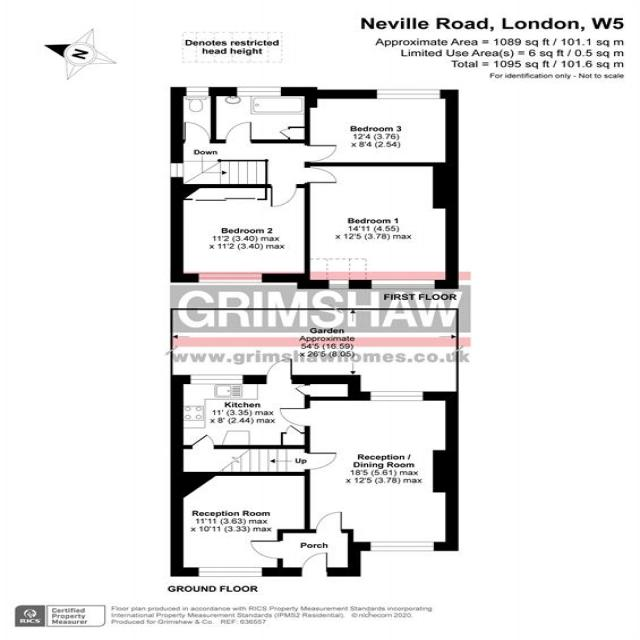DOOR: (264, 357, 294, 384), (299, 551, 329, 577), (268, 184, 299, 208), (248, 539, 283, 560), (182, 121, 212, 144), (304, 451, 338, 471), (303, 144, 337, 163), (224, 121, 252, 144), (278, 407, 310, 427), (315, 511, 344, 533), (304, 166, 337, 184), (191, 433, 215, 449)
ROOM: (278, 391, 459, 552), (297, 162, 459, 290), (169, 357, 361, 450), (169, 471, 311, 577), (169, 184, 311, 289), (304, 89, 459, 167)
WINDOW: (196, 272, 264, 285), (196, 566, 264, 578), (369, 541, 435, 552), (370, 279, 436, 290), (376, 89, 441, 100), (369, 391, 424, 402), (189, 374, 244, 385), (235, 86, 282, 98), (168, 162, 185, 179), (185, 86, 210, 97), (327, 279, 350, 290)
